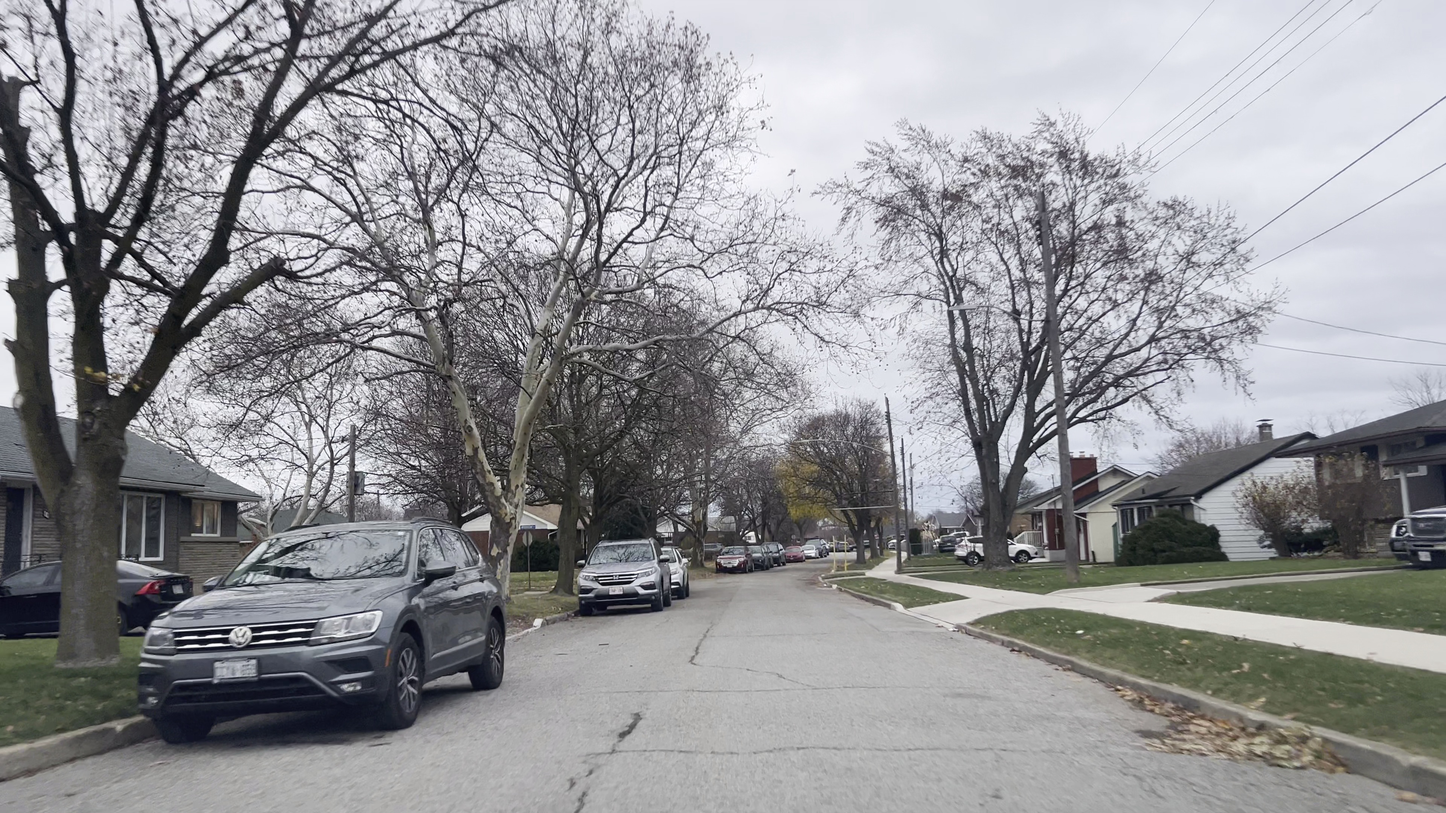cracks: (610, 705, 653, 746), (572, 760, 590, 813), (697, 620, 708, 670)
